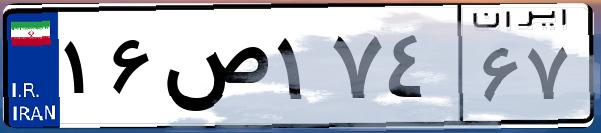1: (270, 28, 330, 110), (57, 26, 110, 100)
4: (385, 28, 445, 110)
6: (475, 38, 525, 113), (110, 28, 158, 98)
7: (330, 28, 385, 110), (525, 38, 570, 115)
ص: (158, 20, 270, 120)
